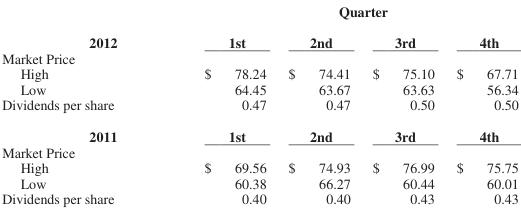table: (1, 0, 517, 207)
table column: (1, 0, 160, 207), (160, 0, 276, 207), (276, 0, 360, 207), (360, 0, 444, 207), (444, 0, 517, 207)
table column header: (1, 0, 517, 49)
table projected row header: (1, 49, 517, 65), (1, 143, 517, 158)
table row: (1, 0, 517, 26), (1, 95, 517, 119), (1, 119, 517, 143), (1, 26, 517, 49), (1, 189, 517, 207), (1, 49, 517, 65), (1, 158, 517, 174), (1, 65, 517, 80), (1, 80, 517, 95), (1, 143, 517, 158), (1, 174, 517, 189)
table spanning cell: (160, 0, 517, 26), (1, 0, 160, 49)
